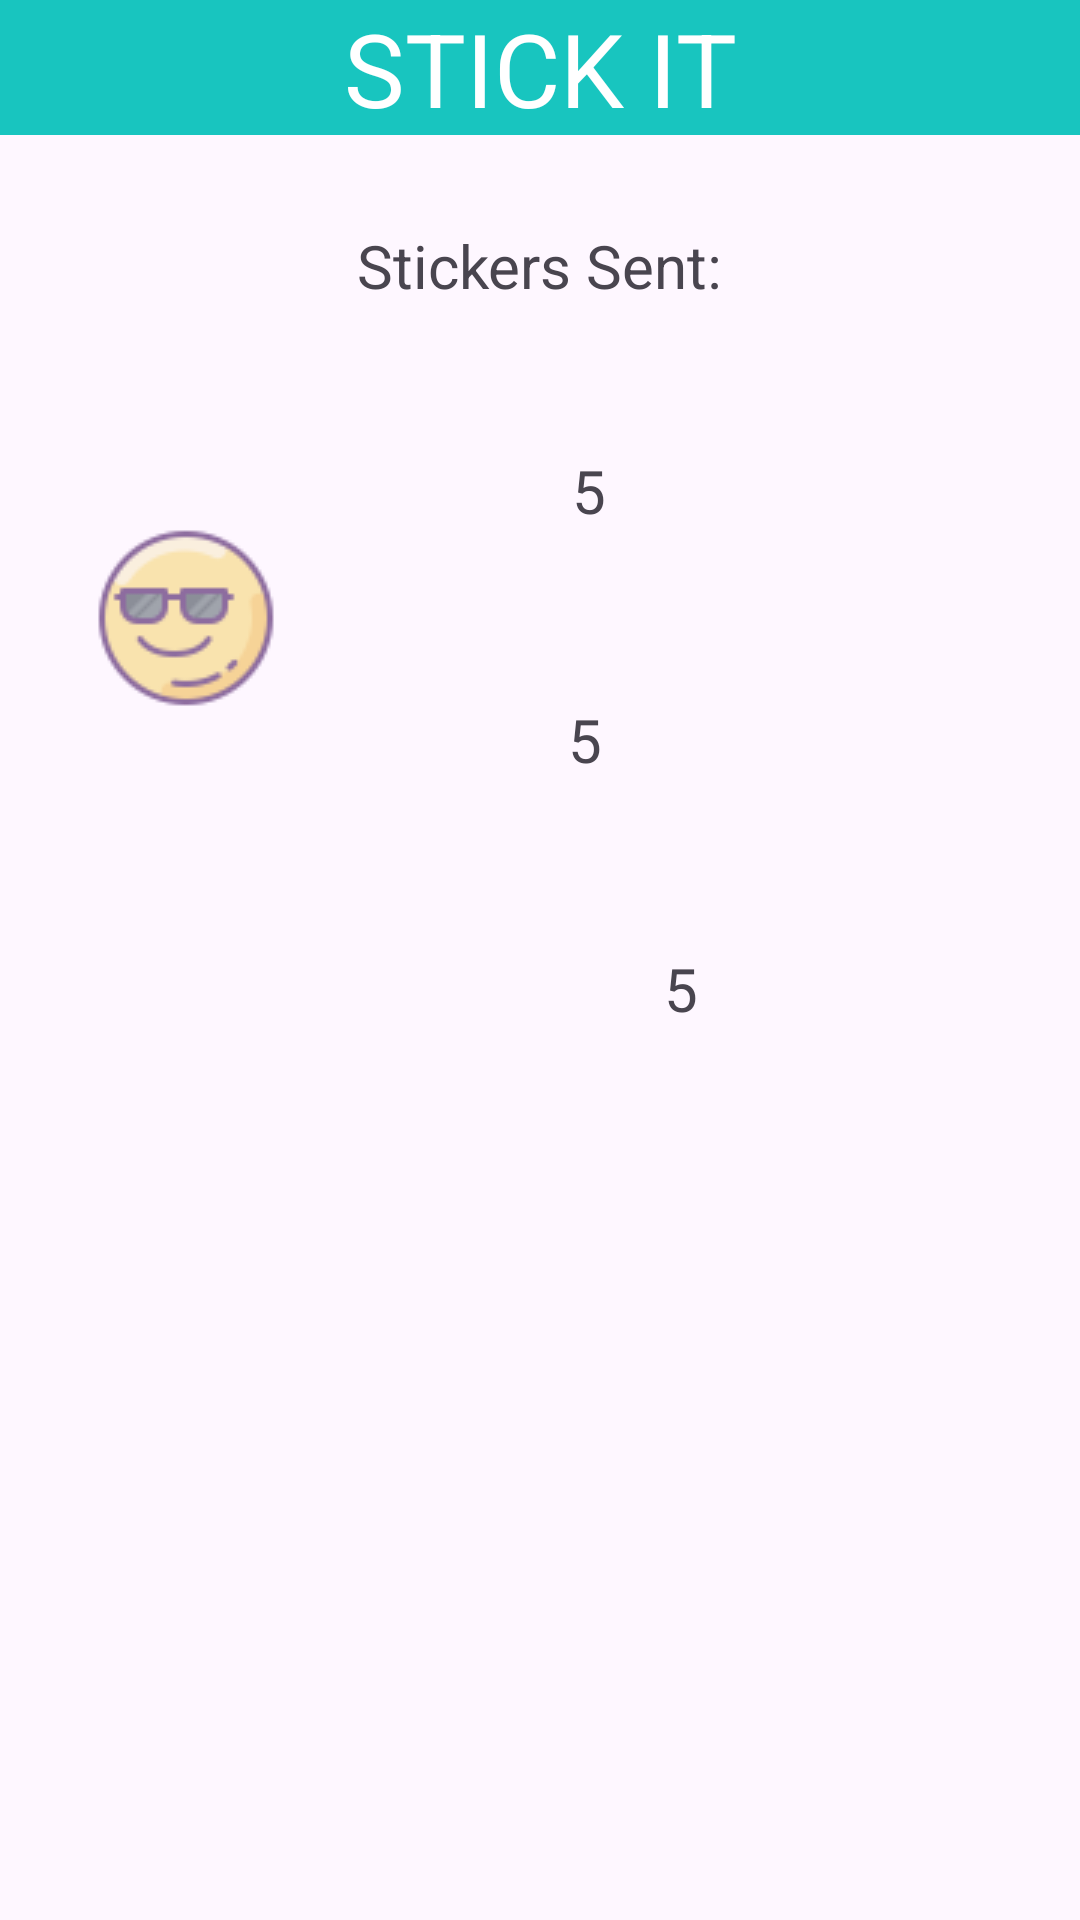

Icons on this 1080*1920 Android screen, each with the point to tap as [x,y]:
cool emoji: [186,618]
